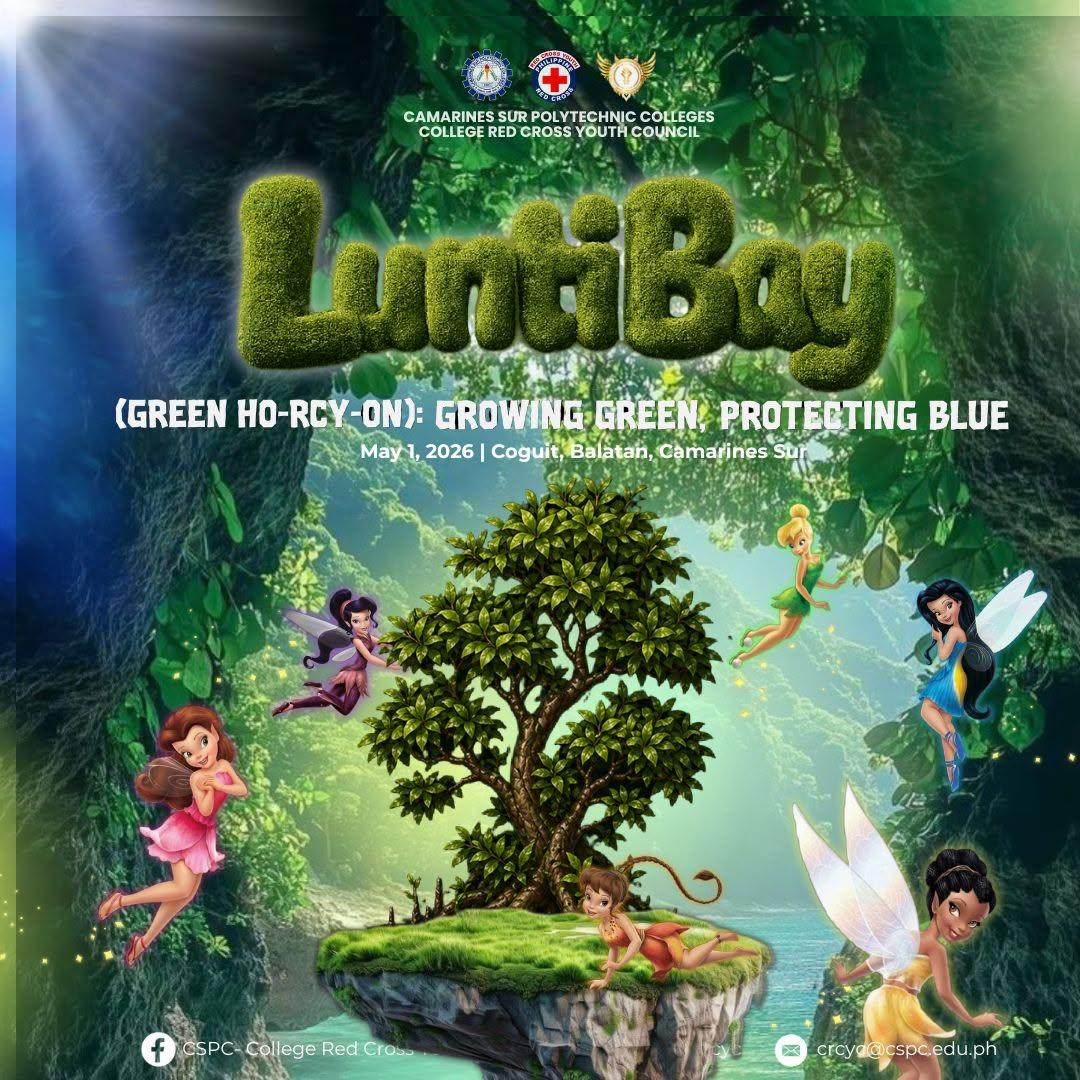embellishment: (794, 783, 1007, 1074), (94, 701, 252, 968), (903, 567, 1047, 795), (571, 847, 762, 988), (728, 501, 851, 666), (267, 586, 405, 721), (770, 1028, 814, 1070), (141, 1032, 176, 1068)
logo: (596, 50, 657, 103), (527, 50, 581, 104), (460, 50, 512, 103)
text: (237, 174, 896, 391), (116, 399, 1009, 428), (361, 443, 815, 463), (403, 110, 714, 138), (183, 1041, 415, 1059), (816, 1041, 997, 1059)
